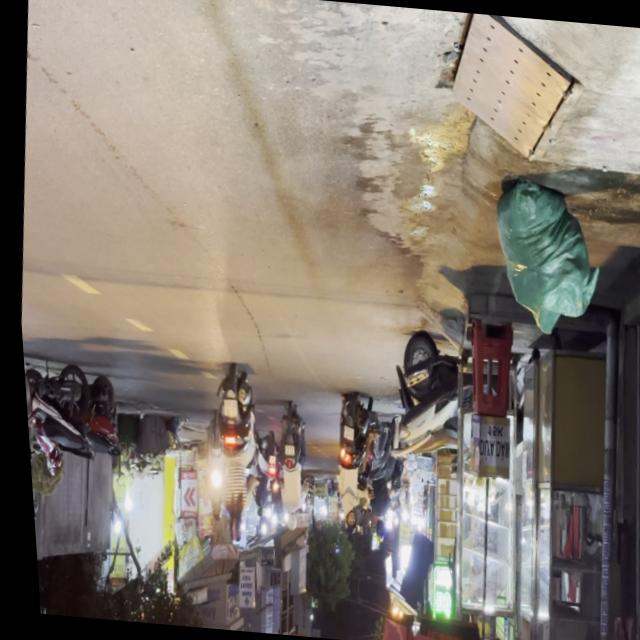helmet: (216, 515, 234, 546)
licenseplate: (191, 362, 261, 550)
nohelmet: (214, 398, 231, 418)
